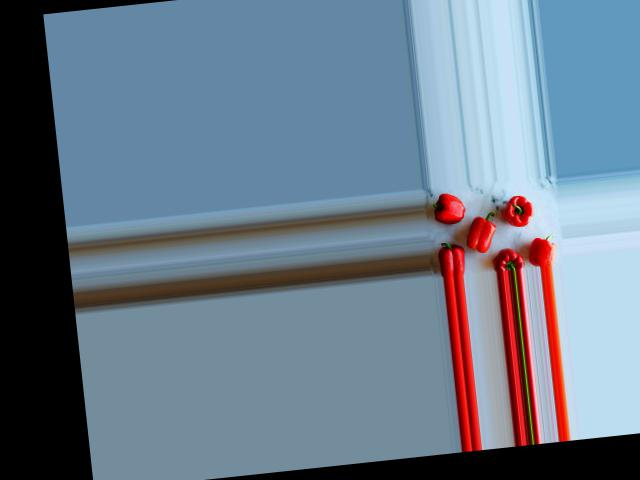bell_pepper: (491, 245, 524, 271)
